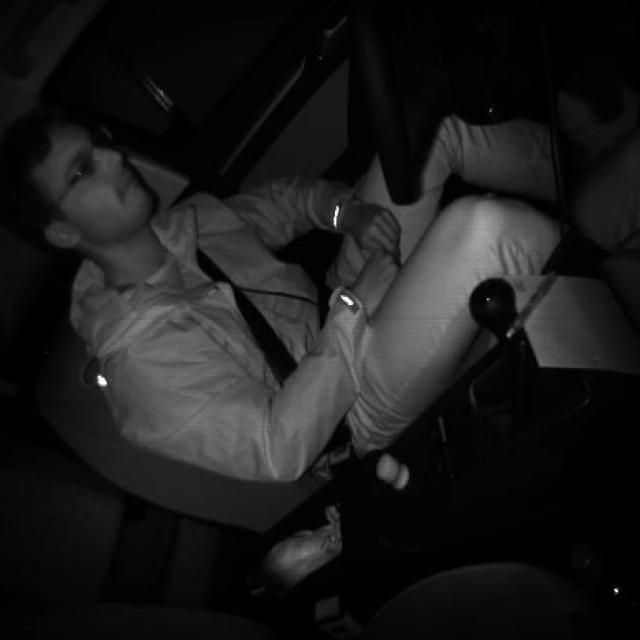pen: (503, 266, 561, 341)
